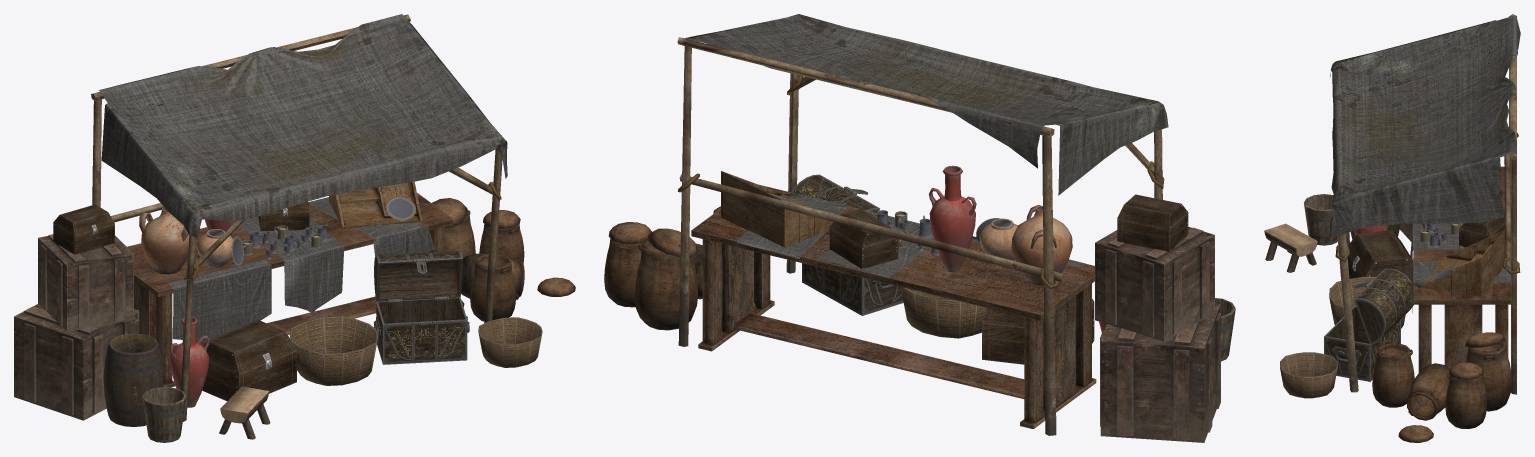
Rendered from Nsho_Stand_E-transformed.glb.
3 renders of one model, left to right at view 1: azimuth 30°, elevation 25°; view 2: azimuth 150°, elevation 25°; view 3: azimuth 270°, elevation 25°, orthographic. The views are drawn at different scales.
Visible parts, largest first — view 1: default; view 2: default; view 3: default.
Part boxes in pixels (x1=…): default: x1=14, y1=14, x2=575, y2=442; default: x1=604, y1=14, x2=1235, y2=442; default: x1=1264, y1=14, x2=1520, y2=442.
Size of the model in its own units: 4.68 by 2.21 by 2.12.
15 materials, 15 textured.
